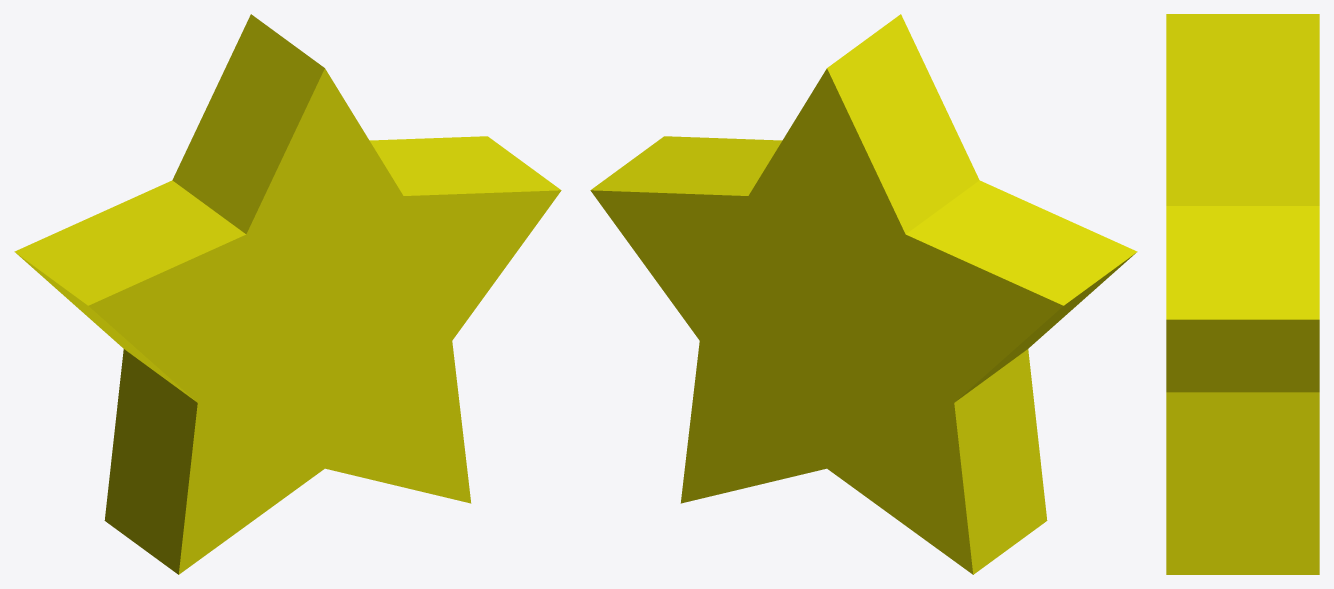
File: estrella.fbx
The picture shows the model from 3 angles, left to right: view 1: azimuth 30°, elevation 25°; view 2: azimuth 150°, elevation 25°; view 3: azimuth 270°, elevation 25°; orthographic projection. The views are drawn at different scales.
Parts seen in each view (by area): view 1: estrella; view 2: estrella; view 3: estrella.
Boxes of the visible parts, x1,y1,x2,y2 form: estrella: (14,14,561,574); estrella: (590,14,1137,574); estrella: (1166,14,1319,574).
Bounding box in the file's own units: 30.86 × 114 × 108.
